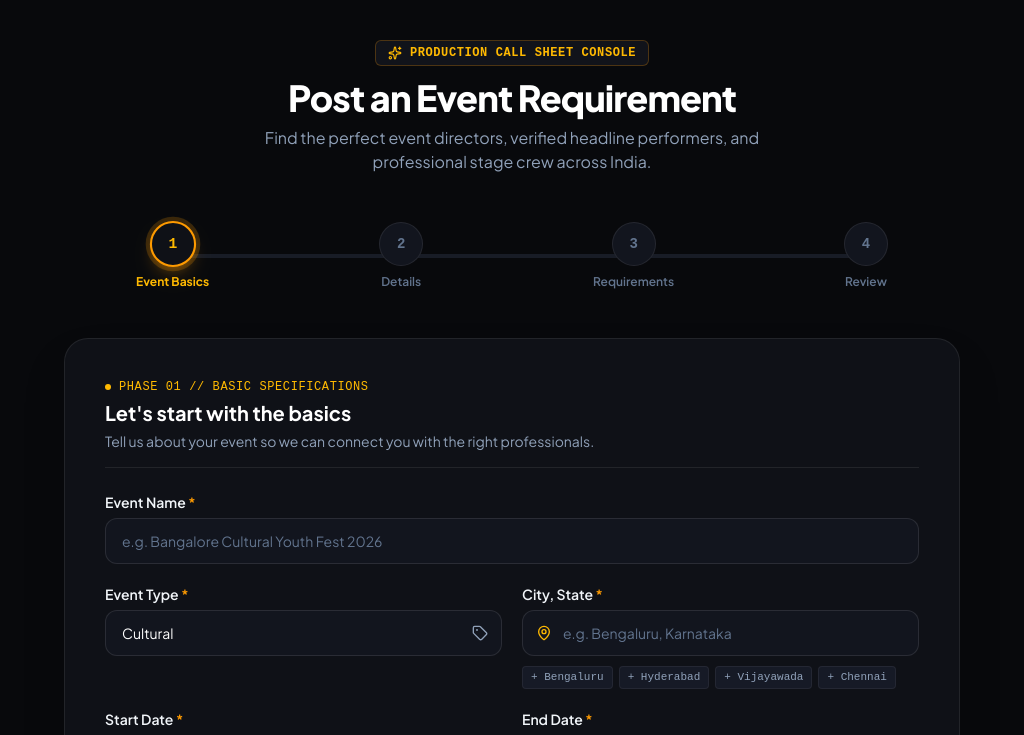
GoPratle 4-Step Requirement Wizard Tests › should advance to Step 2 and display category-specific fields
Type "Pune Indie Fest" into the field with placeholder "e.g. Bangalore Cultural Youth Fest 2026" at (512, 541), box [105, 518, 919, 564]
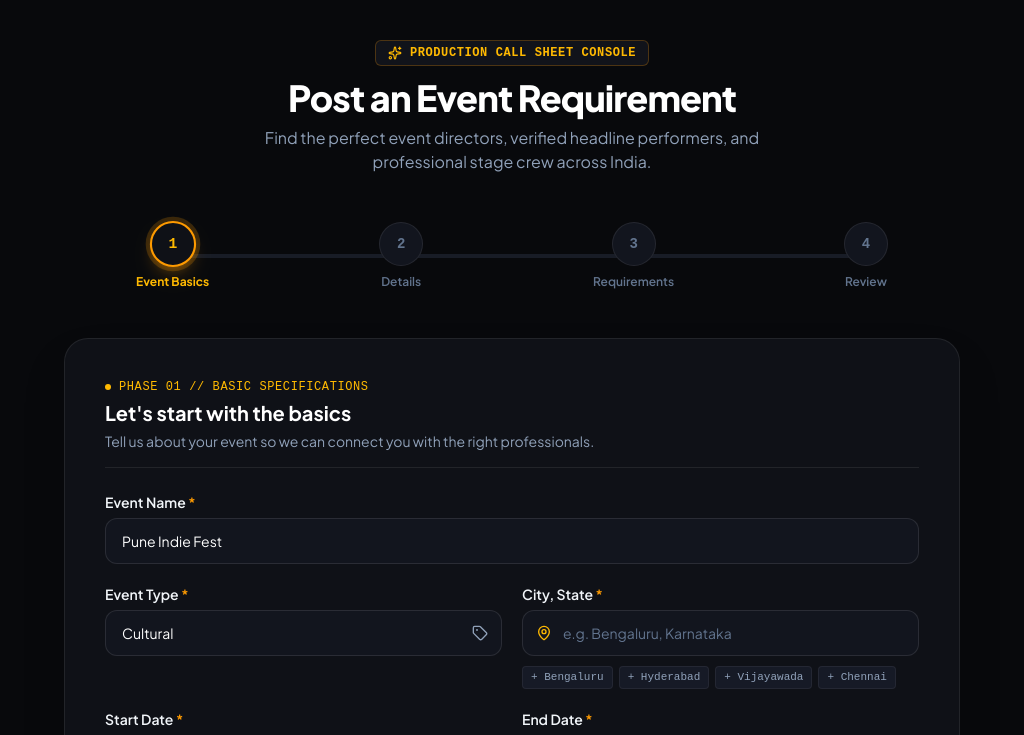
Type "Pune, Maharashtra" into the field with placeholder "e.g. Bengaluru, Karnataka" at (720, 633), box [522, 610, 919, 656]
(page scrolled)
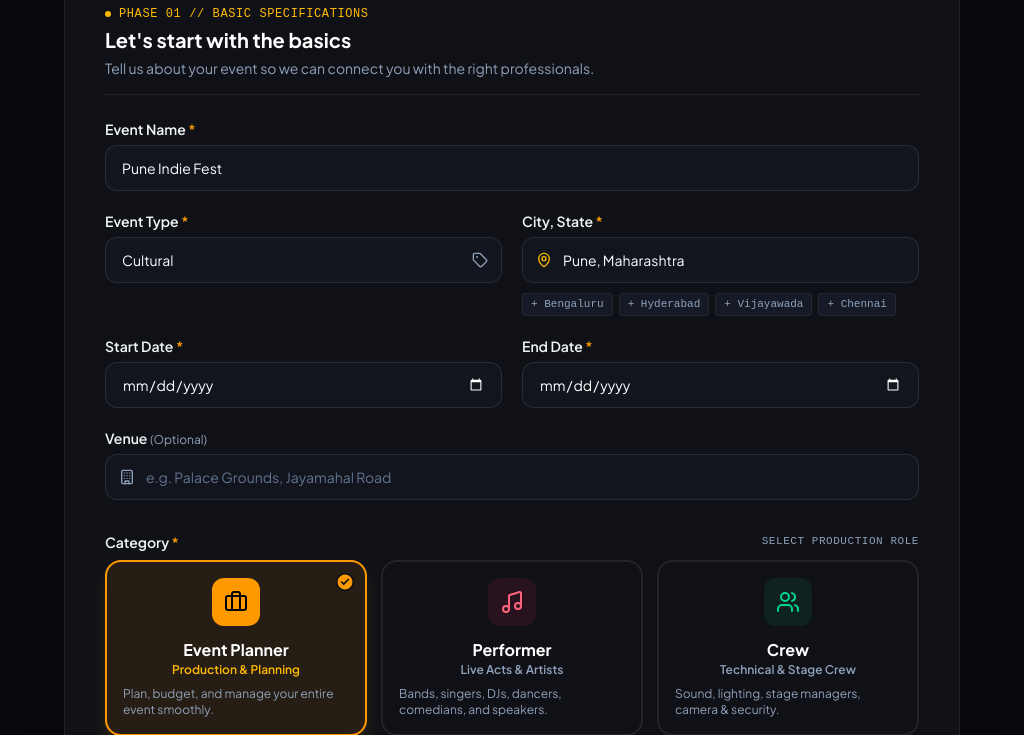
Type "2026-11-20" into the date field below "Start Date" at (304, 384), box [105, 362, 502, 408]
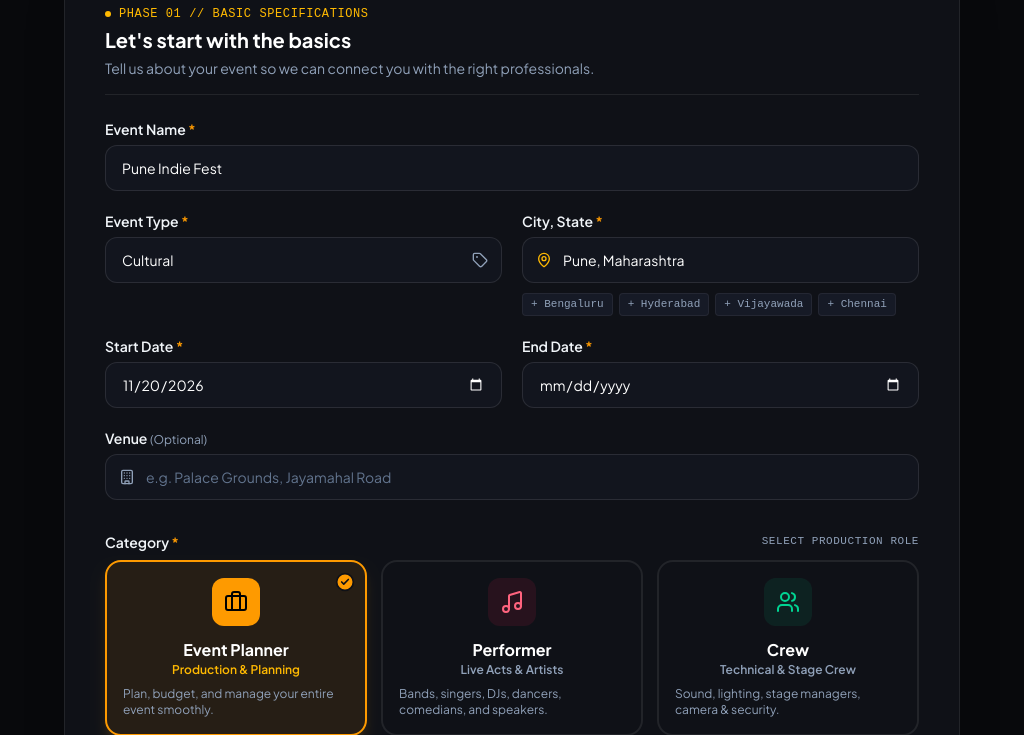
Type "2026-11-22" into the date field below "End Date" at (720, 384), box [522, 362, 919, 408]
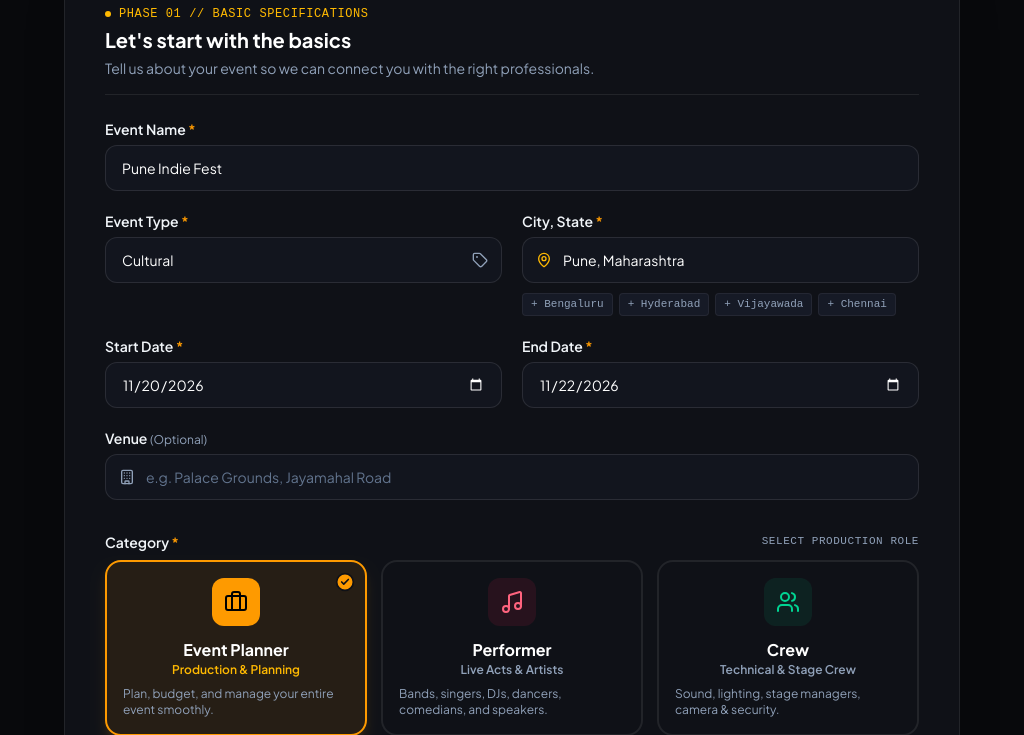
// Select Performer category
Click the heading "Performer" at (512, 650), box [472, 638, 552, 662]
(page scrolled)
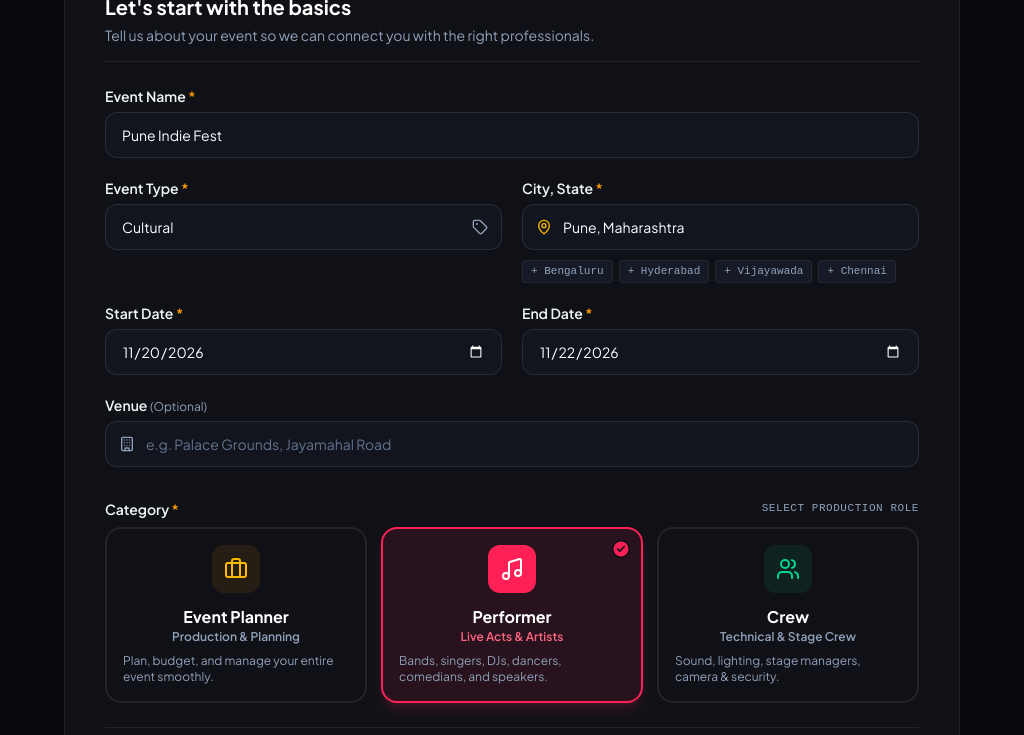
Submit the text "Next: Category Details"
(page scrolled)
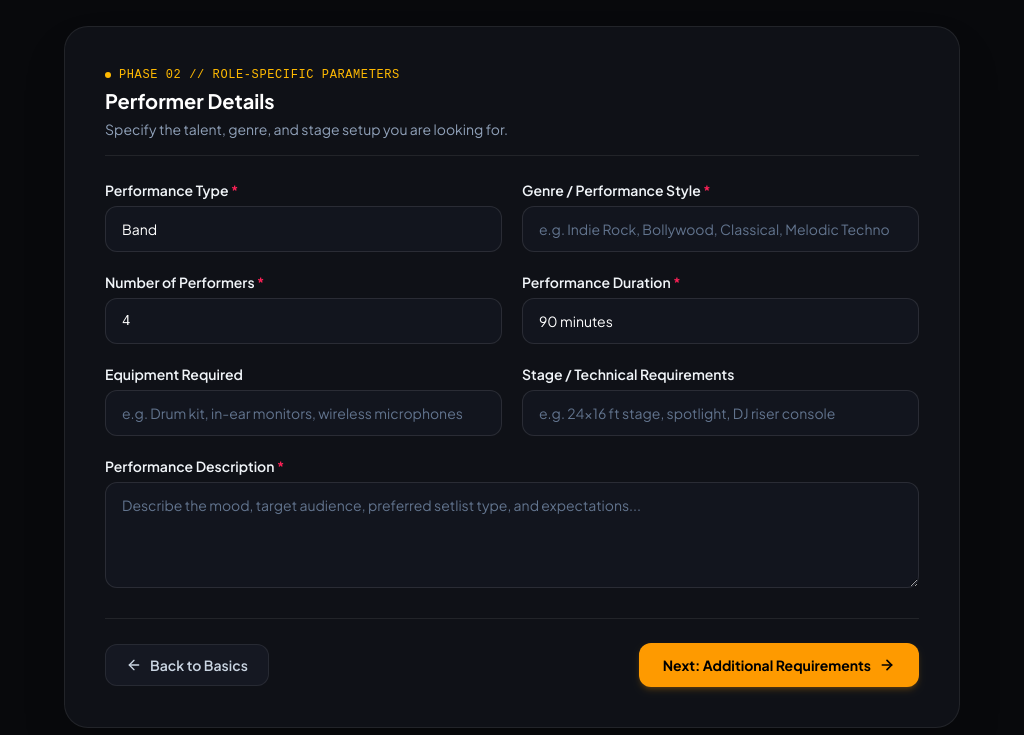
Expected: the heading "Performer Details" is shown, [105, 88, 275, 113]
Expected: the text "Performance Type" is shown, [105, 181, 231, 199]
Expected: the text "Genre / Performance Style" is shown, [522, 181, 703, 199]
